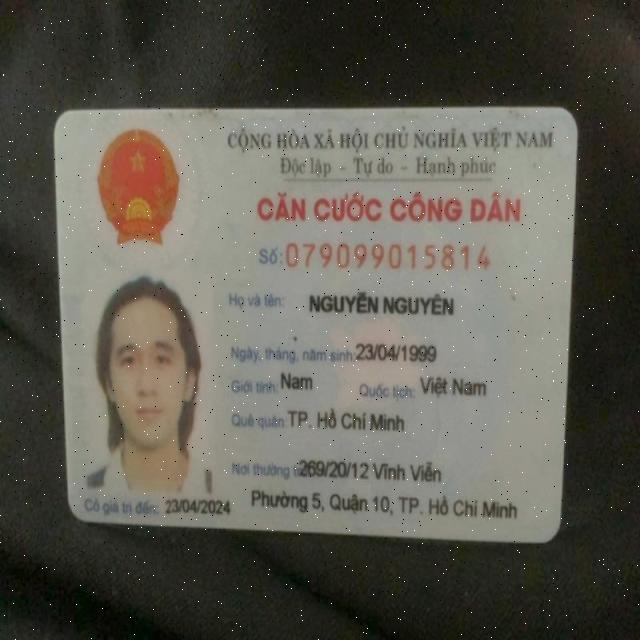current_place: (247, 483, 522, 521), (290, 456, 446, 486)
dob: (355, 339, 439, 366)
expire_date: (165, 496, 232, 519)
gender: (279, 367, 314, 394)
id: (286, 241, 490, 273)
name: (309, 289, 456, 321)
nationality: (419, 372, 488, 402)
origin_place: (287, 405, 409, 435)
